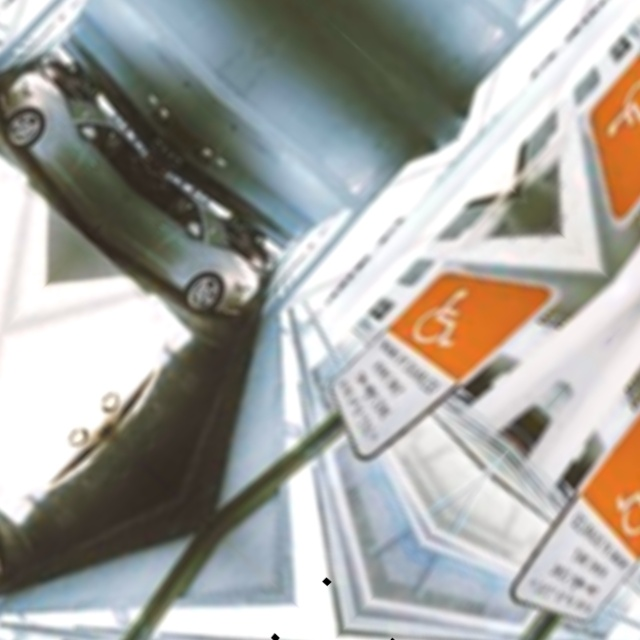ISA: (404, 276, 489, 364), (595, 69, 640, 156), (600, 456, 640, 544)
